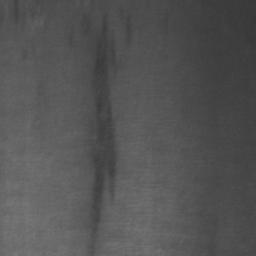Inclusion: (91, 19, 118, 230)
